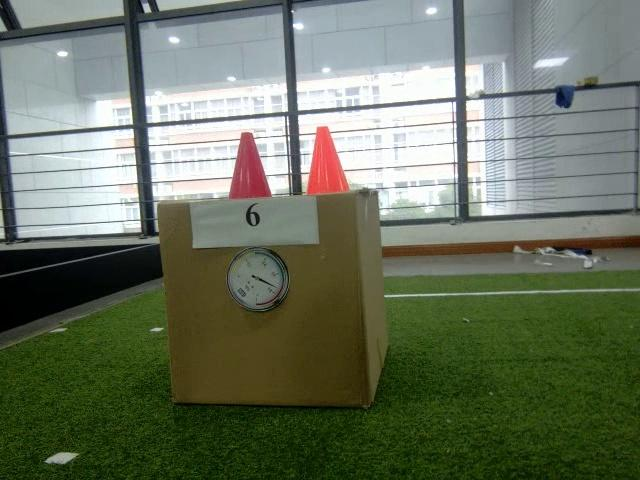6: (244, 203, 262, 228)
Dashboard: (227, 246, 290, 314)
orange_barrel: (304, 125, 352, 195)
red_barrel: (228, 132, 274, 200)
ssi: (236, 286, 246, 298)
